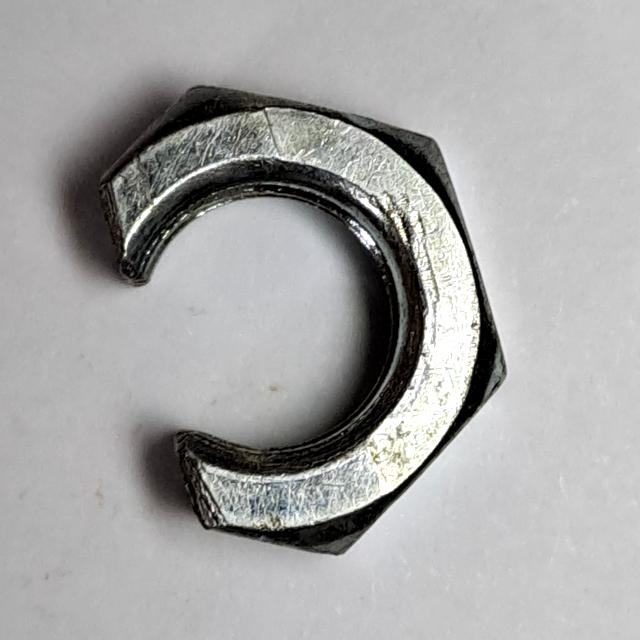Fracture: (83, 70, 528, 575)
